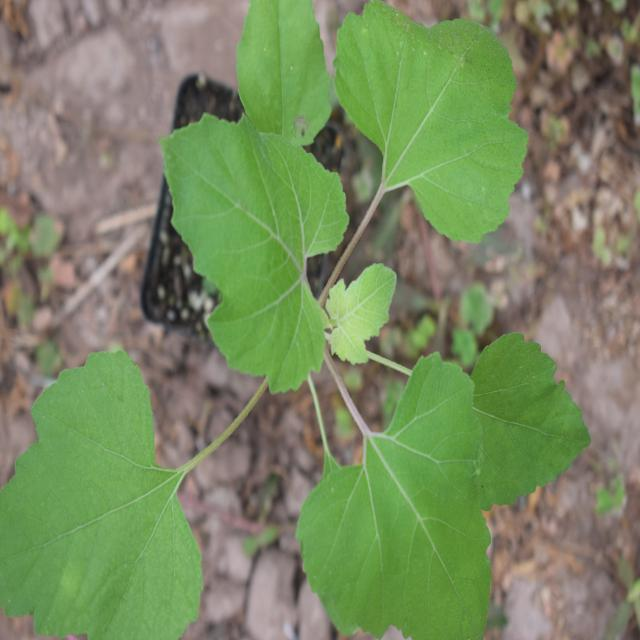cocklebur: (20, 31, 574, 619)
